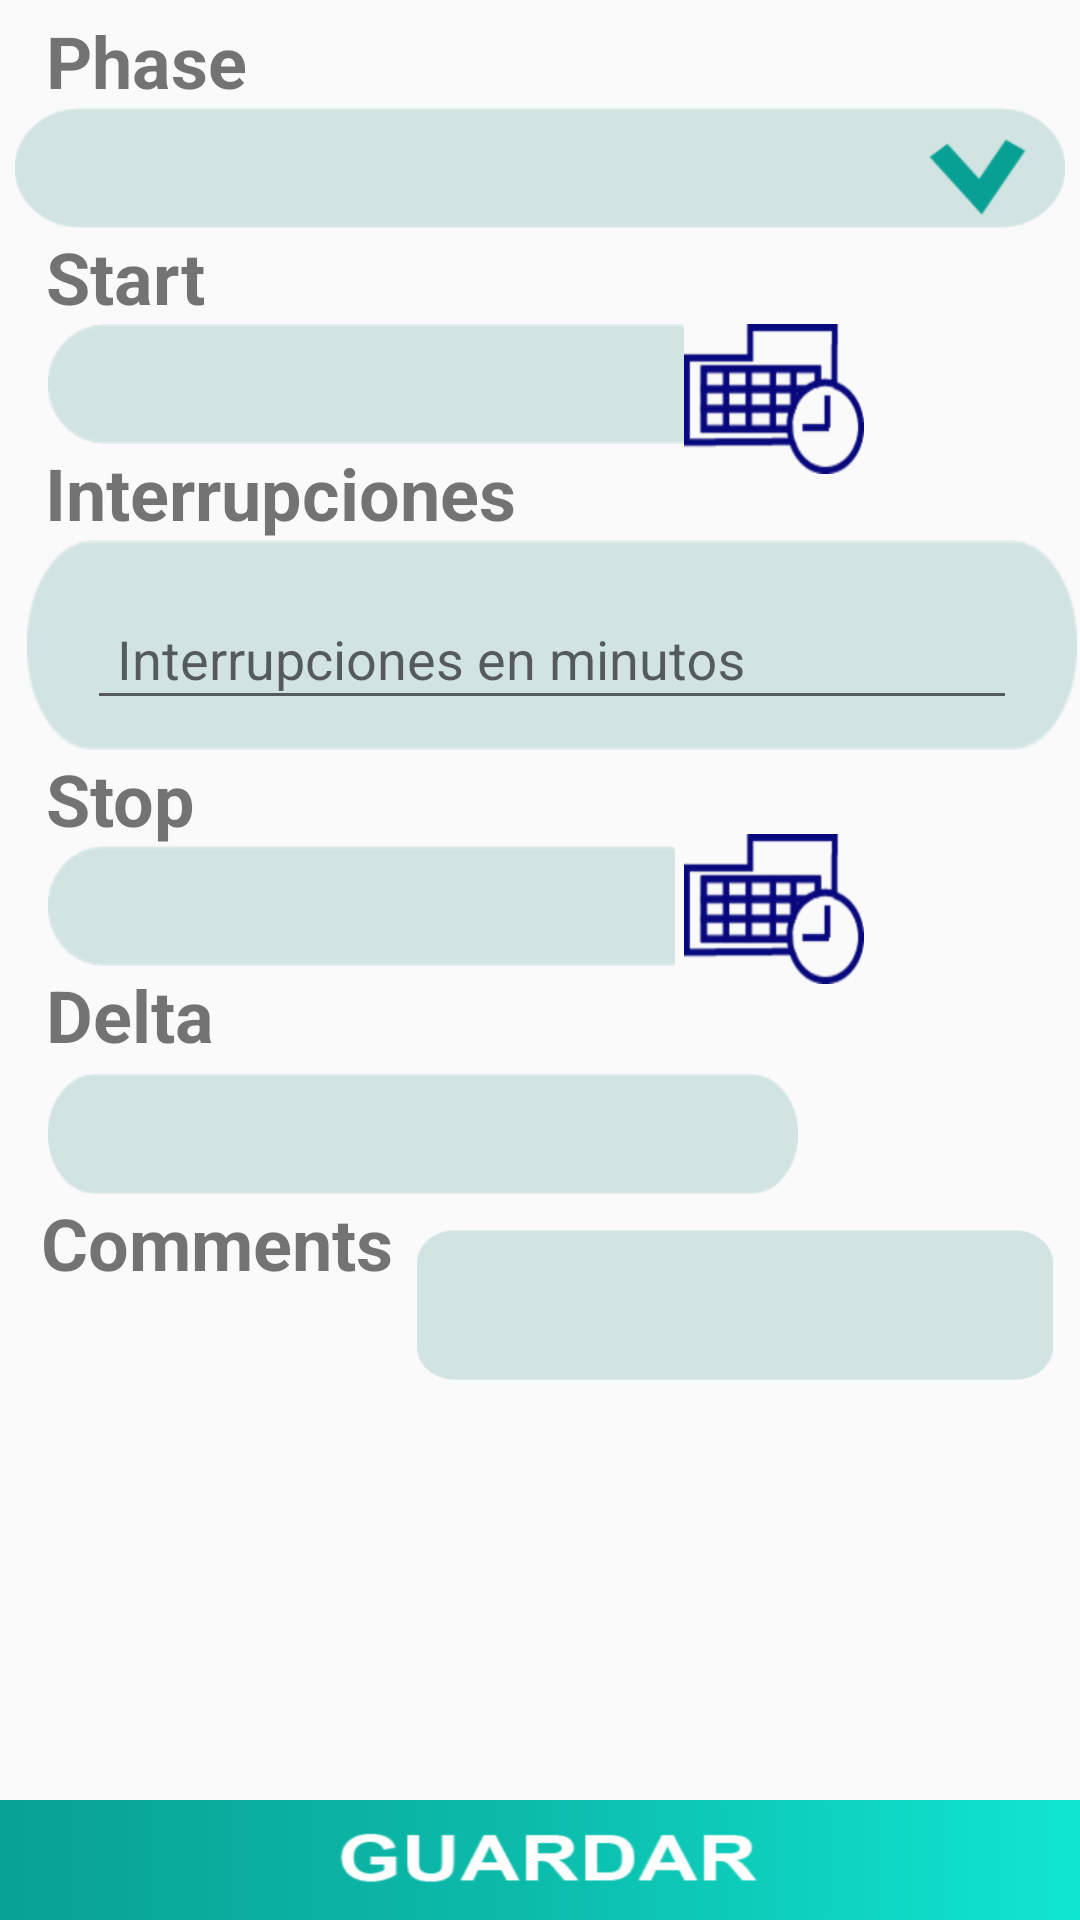

Screen size 1080w x 1920h. Icon name, then its box in pixels as BBox(x1, y1, x2, y2):
calendar: BBox(684, 324, 864, 474), BBox(684, 834, 864, 984)
